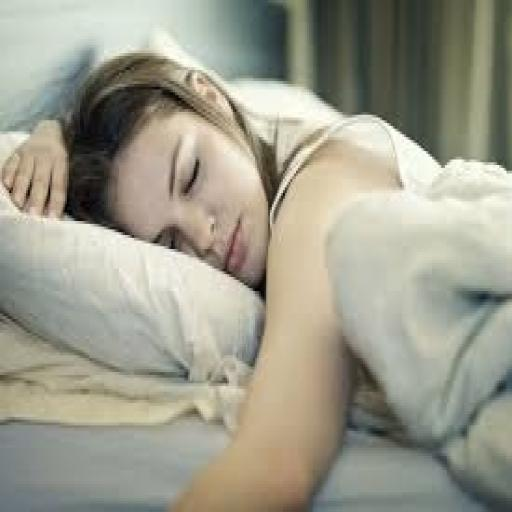sleeping: (4, 42, 510, 509)
